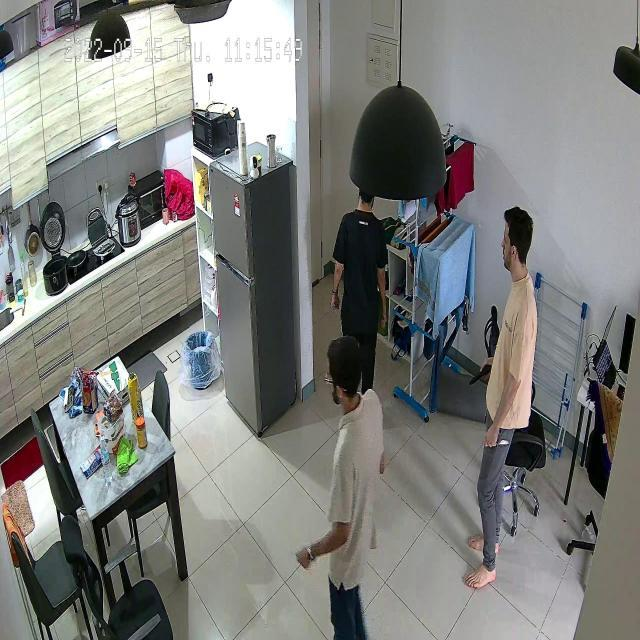Knife: (474, 424, 520, 460)
